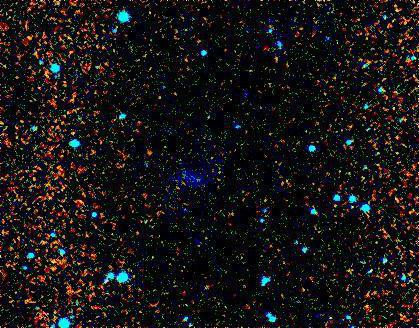star: (39, 249, 69, 279)
